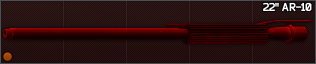AR-10 7.62x51 22 inch barrel: (0, 0, 316, 64)
